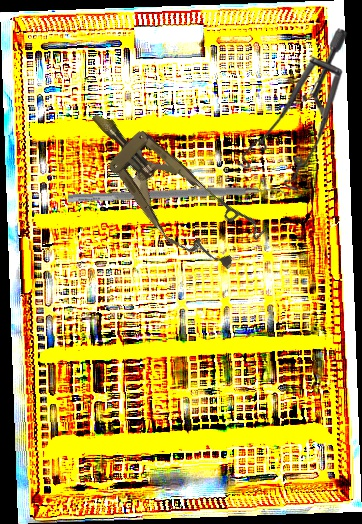Spatula Surgical: (67, 182, 290, 212)
Speculum: (67, 88, 268, 285), (237, 28, 348, 193)
